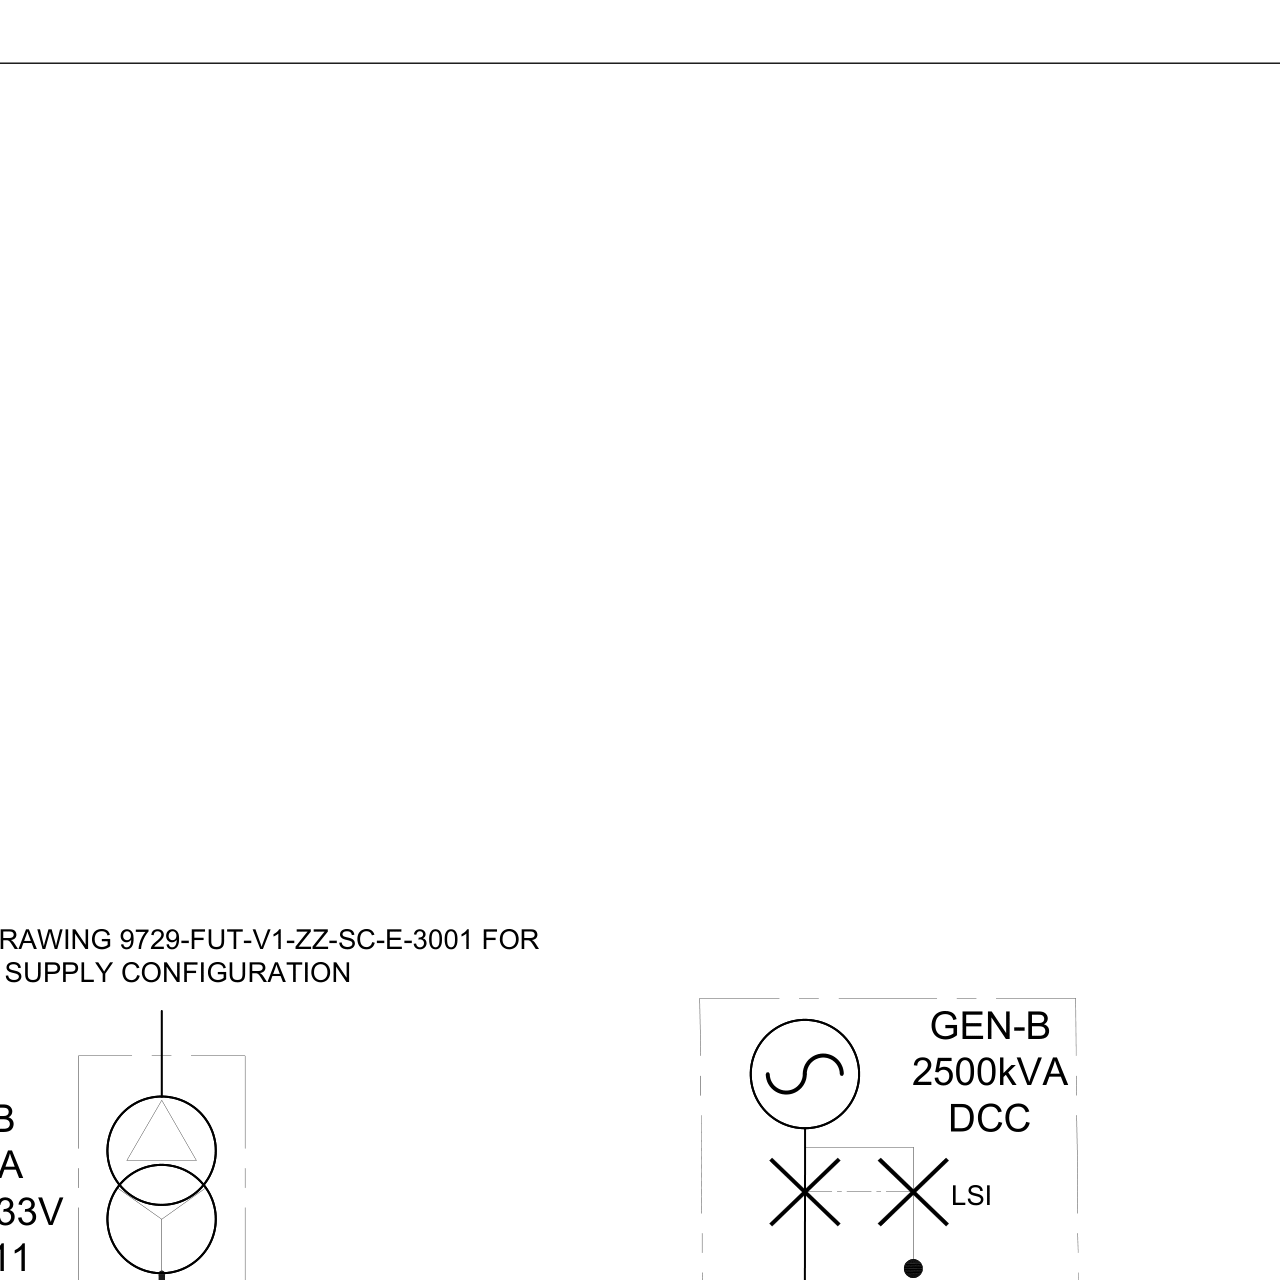Generator: (734, 1016, 880, 1136)
Transformer: (96, 1083, 229, 1279)
